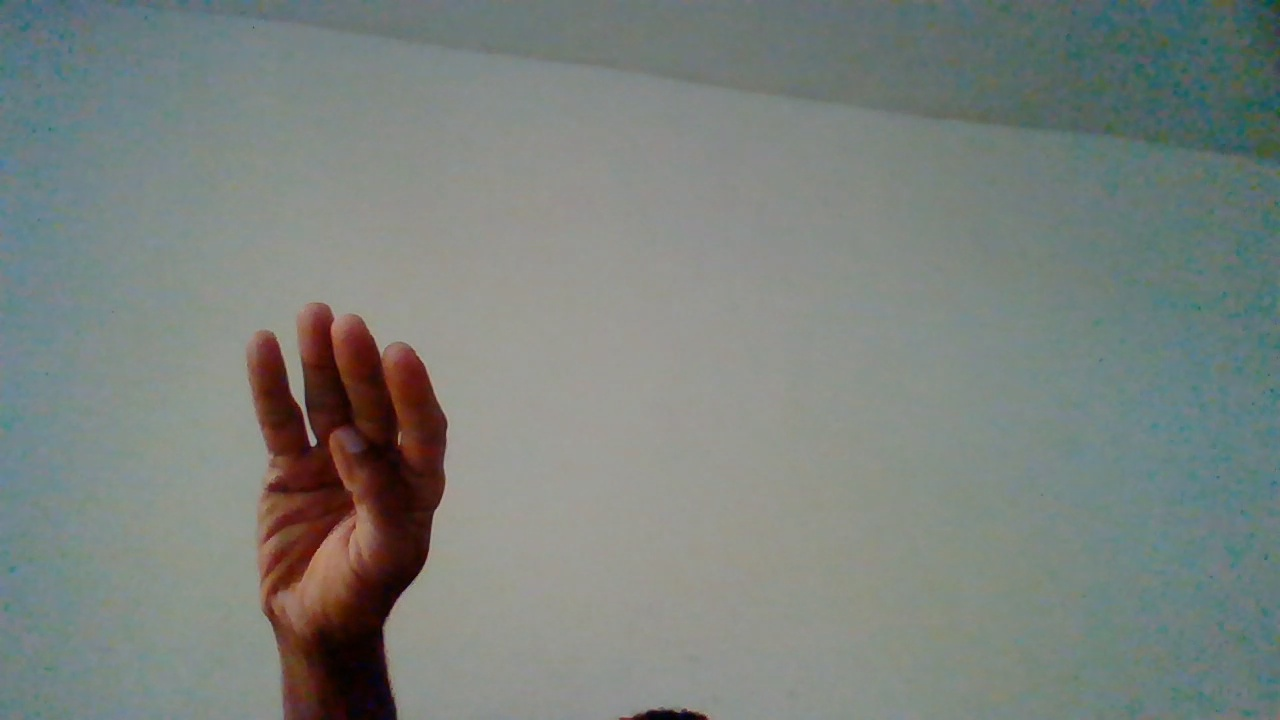me: (243, 295, 459, 700)
